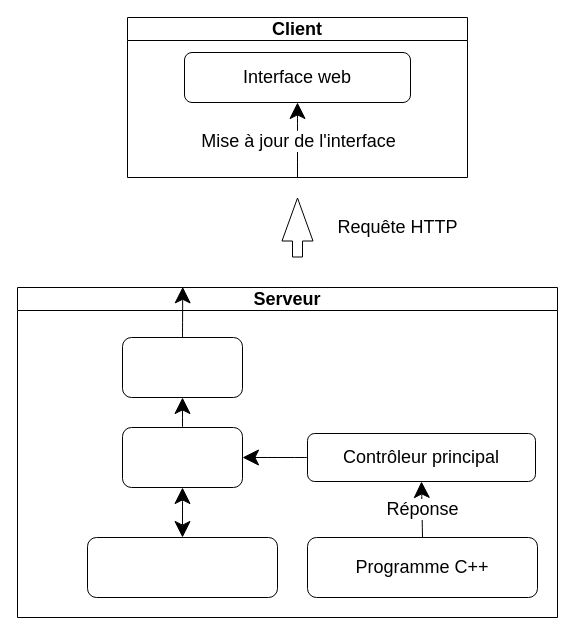
Some shapes in this 575 by 635 pixel diagram are drawn without their labels. Each missing label, with the centre of its shape:
Base de données: the point at 182,567
Modèle: the point at 182,457
Vue: the point at 182,367
